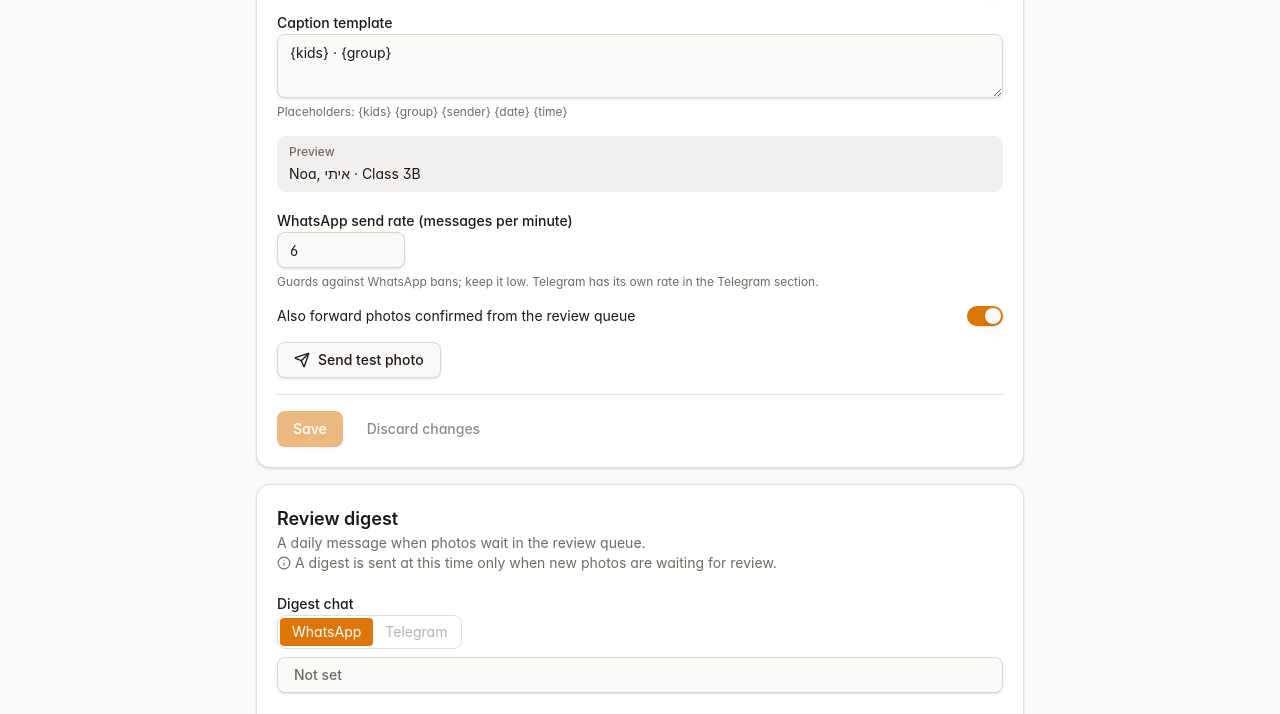
Test: SettingsPage › asks for confirmation before sending a real test photo
(page scrolled)
Click the button "Send test photo". click: point(359, 360)
box: left=277, top=342, right=441, bottom=378
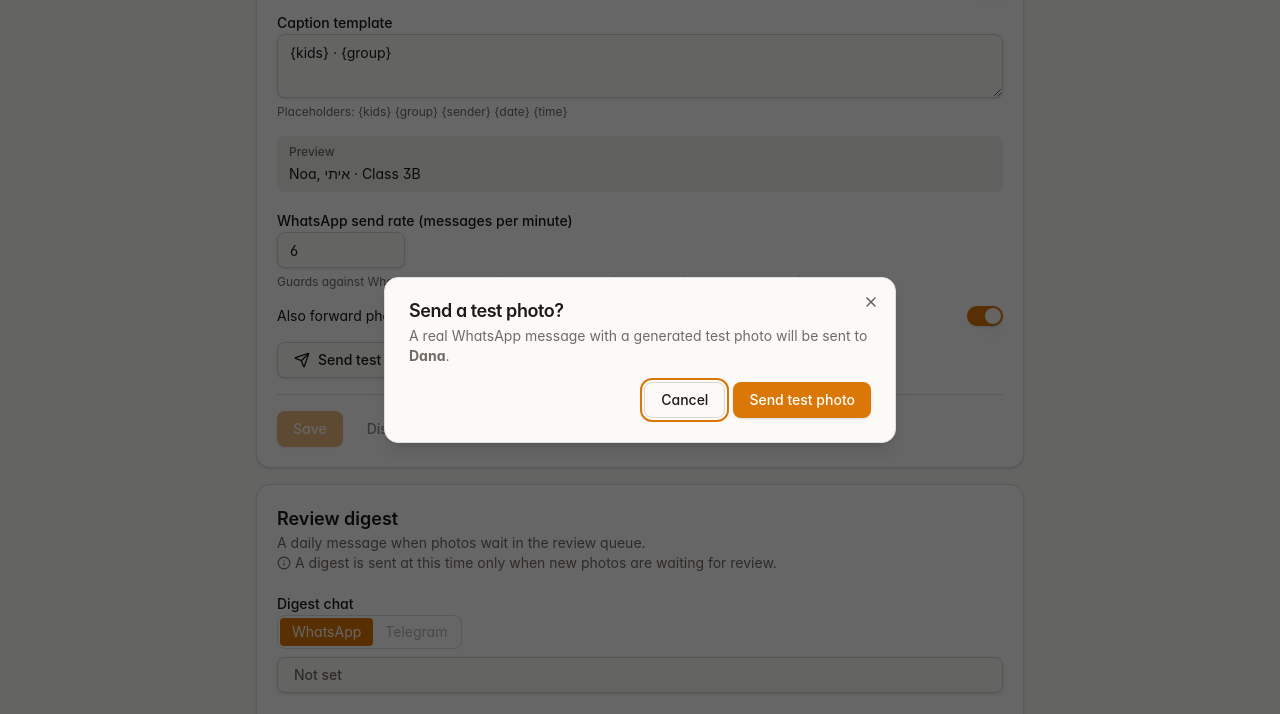
expect the text "real WhatsApp message" is shown: met, box left=409, top=326, right=871, bottom=366
Click the button "Cancel". click: point(685, 400)
box: left=644, top=382, right=725, bottom=418
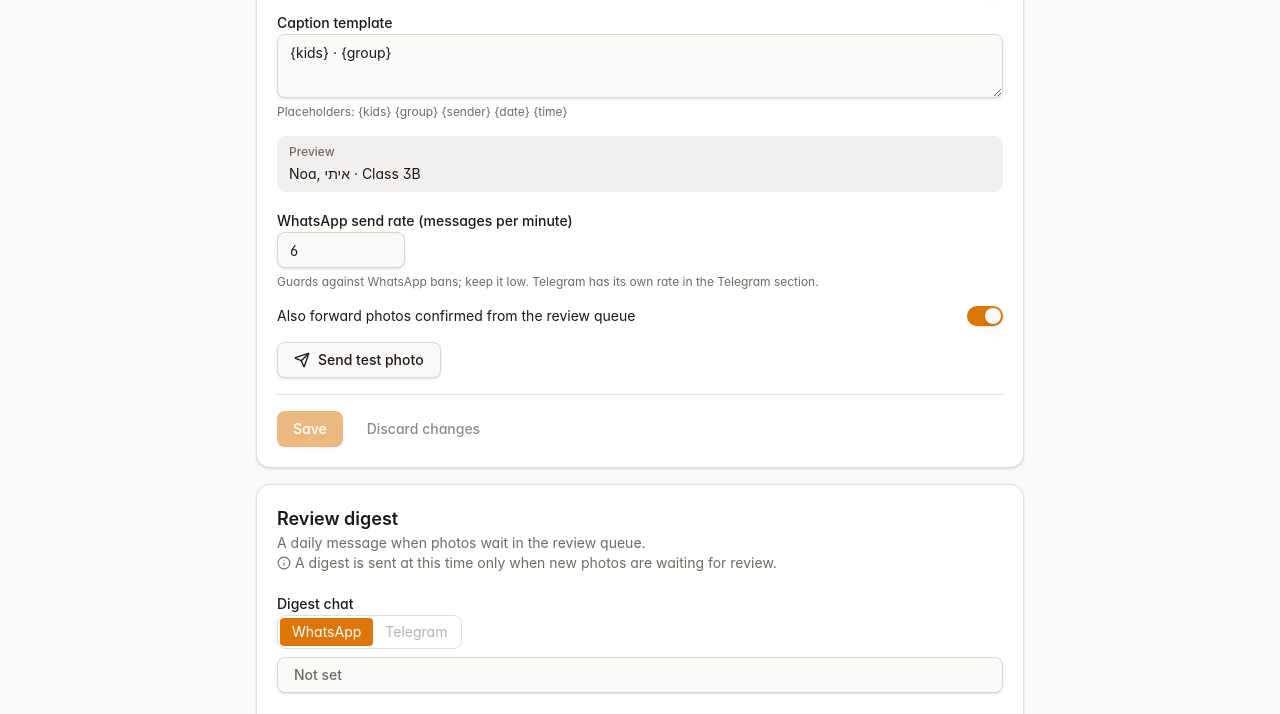
Click the button "Send test photo". click: point(359, 360)
box: left=277, top=342, right=441, bottom=378
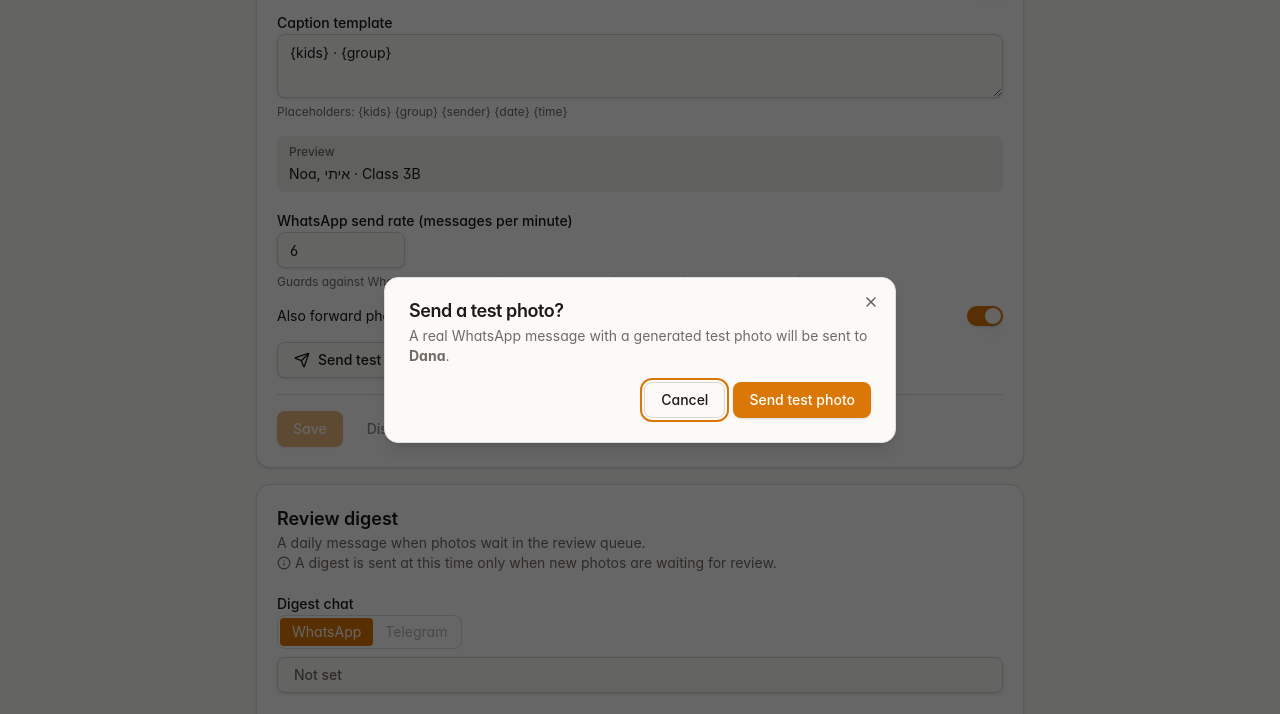
Click the button "Send test photo". click: point(802, 400)
box: left=733, top=382, right=871, bottom=418
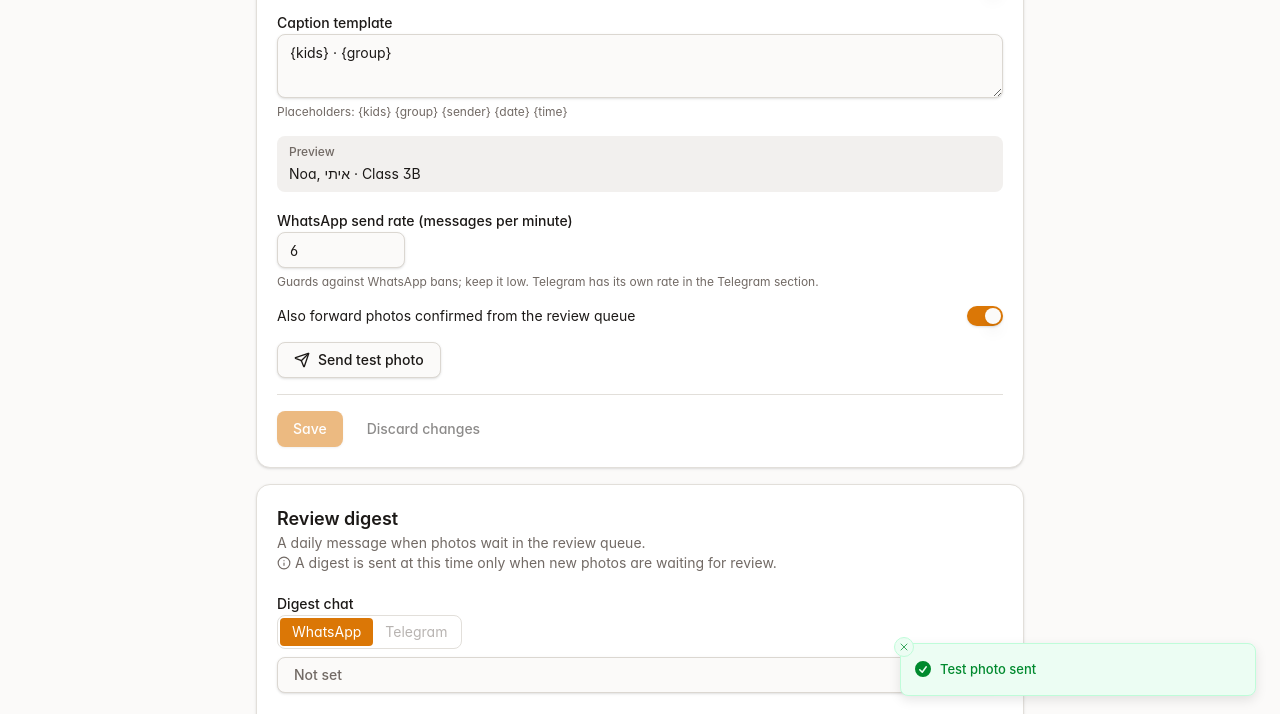
expect the text "Test photo sent" is shown: met, box left=940, top=660, right=1036, bottom=679
